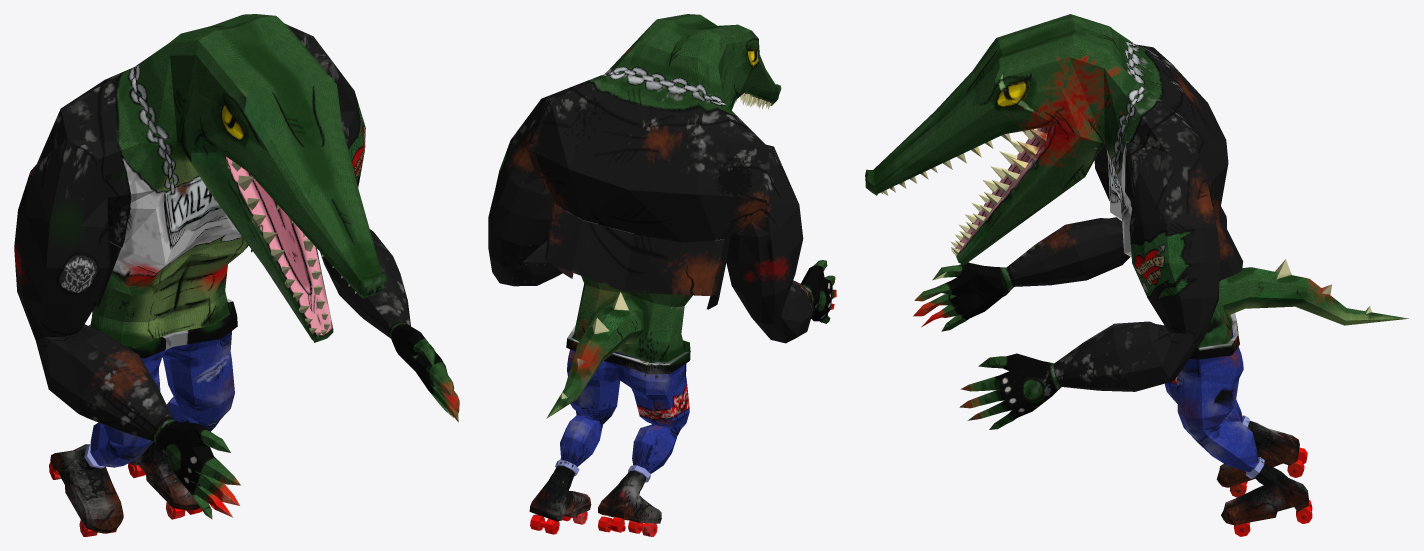
Rendered from cocodrilaBonesSelect_000016.obj.
The picture shows the model from 3 angles, left to right: view 1: azimuth 30°, elevation 25°; view 2: azimuth 150°, elevation 25°; view 3: azimuth 270°, elevation 25°; orthographic projection. The views are drawn at different scales.
Visible parts, largest first — view 1: Crocodile.002_Cylinder.002; view 2: Crocodile.002_Cylinder.002; view 3: Crocodile.002_Cylinder.002.
Part boxes in pixels (bbox=[...]): Crocodile.002_Cylinder.002: bbox=[14, 14, 459, 536]; Crocodile.002_Cylinder.002: bbox=[488, 14, 836, 536]; Crocodile.002_Cylinder.002: bbox=[865, 14, 1408, 536].
Size of the model in its own units: 4 by 5.98 by 6.08.
